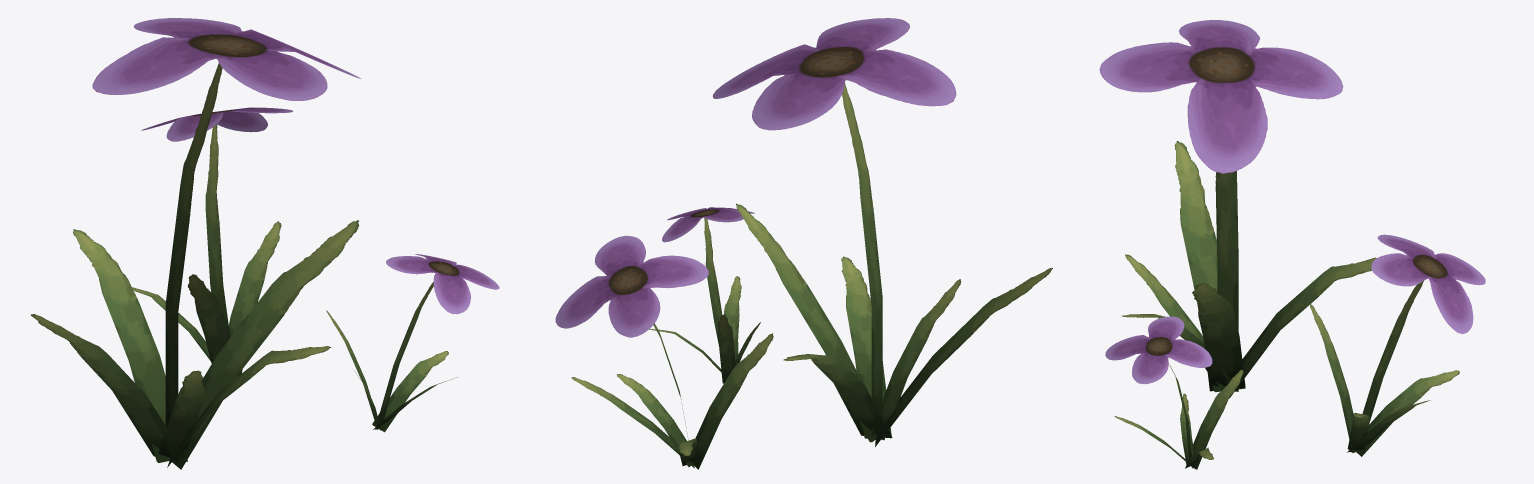
File: FlowerPurple_Mesh.fbx
The picture shows the model from 3 angles, left to right: view 1: azimuth 30°, elevation 25°; view 2: azimuth 150°, elevation 25°; view 3: azimuth 270°, elevation 25°; orthographic projection. The views are drawn at different scales.
Parts seen in each view (by area): view 1: Plane.172; view 2: Plane.172; view 3: Plane.172.
Boxes of the visible parts, x1=… form: Plane.172: x1=31, y1=18, x2=499, y2=469; Plane.172: x1=555, y1=18, x2=1052, y2=469; Plane.172: x1=1099, y1=20, x2=1485, y2=469.
Bounding box in the file's own units: 0.2357 × 0.2182 × 0.2018.
